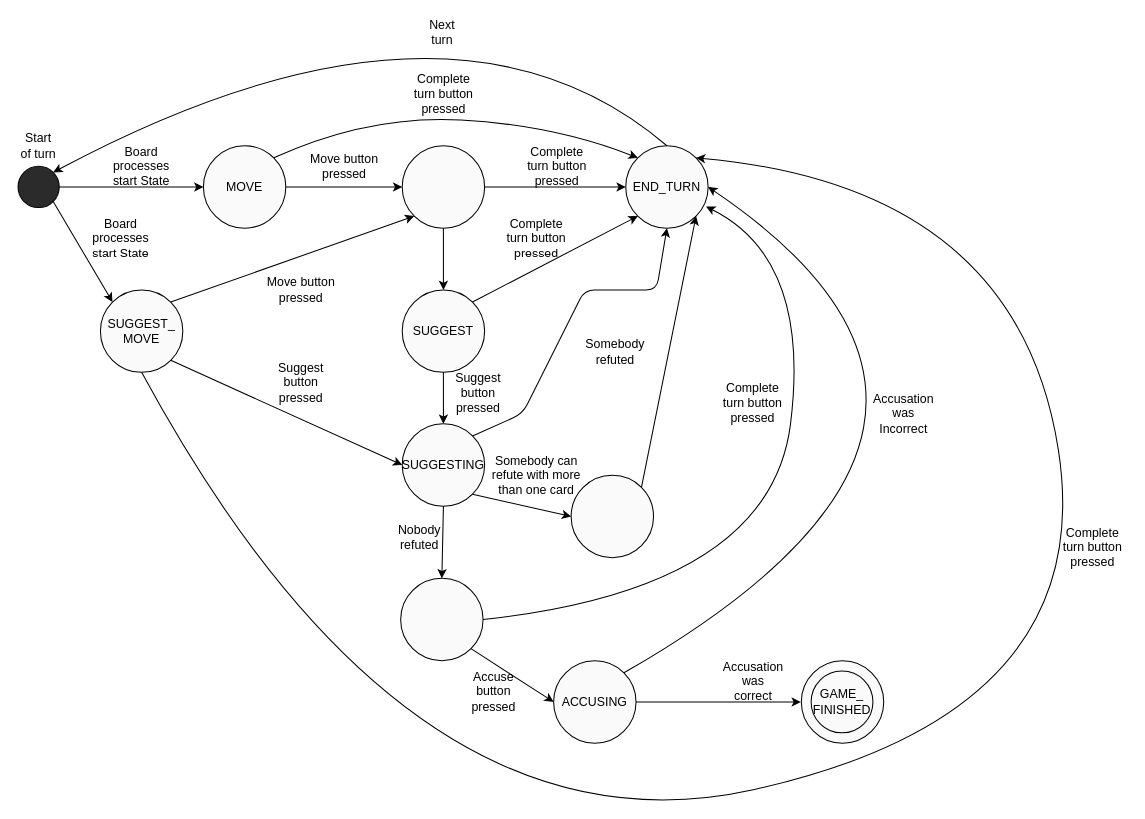
This 1145x819 diagram has some shape labels left out. Each missing label, with the centre of its shape:
"ACCUSE" goes at (441,619).
"MOVING" goes at (443,186).
"REFUTING" goes at (612,516).
